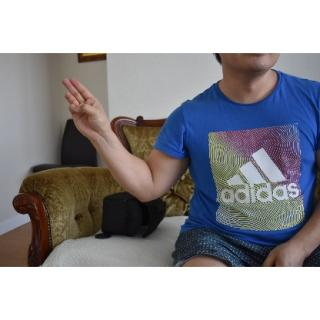THA: (60, 72, 115, 145)
